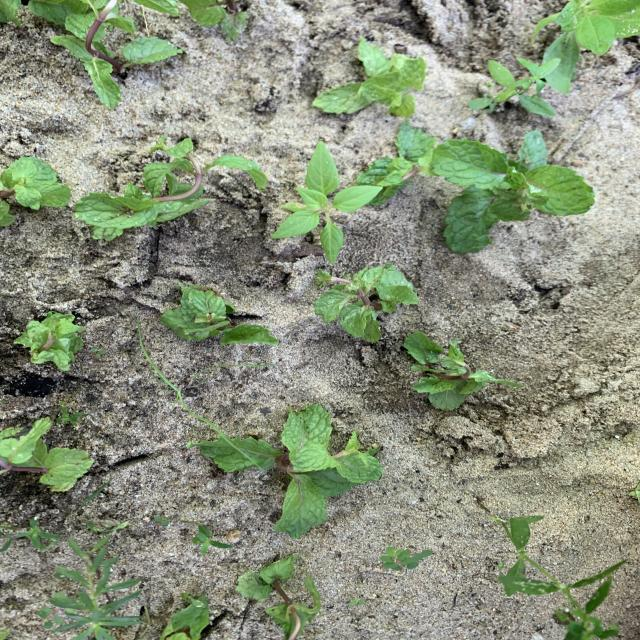crop: (430, 130, 594, 252), (234, 406, 381, 537), (76, 138, 265, 239), (52, 1, 182, 107), (50, 534, 140, 640), (408, 333, 522, 409), (314, 39, 425, 116), (315, 265, 417, 341), (161, 283, 276, 343), (237, 556, 320, 639), (356, 122, 437, 206), (1, 418, 93, 490), (1, 158, 70, 225), (15, 312, 83, 370), (181, 0, 247, 40), (161, 594, 209, 639)
weed: (493, 516, 625, 639), (139, 328, 242, 461), (273, 141, 379, 263), (533, 0, 640, 93), (489, 59, 558, 115), (380, 547, 431, 571), (23, 519, 60, 550), (193, 524, 231, 552), (84, 475, 113, 503), (57, 403, 86, 426), (38, 606, 62, 628), (1, 525, 16, 551), (92, 347, 106, 358), (348, 598, 365, 606), (154, 516, 169, 525)
